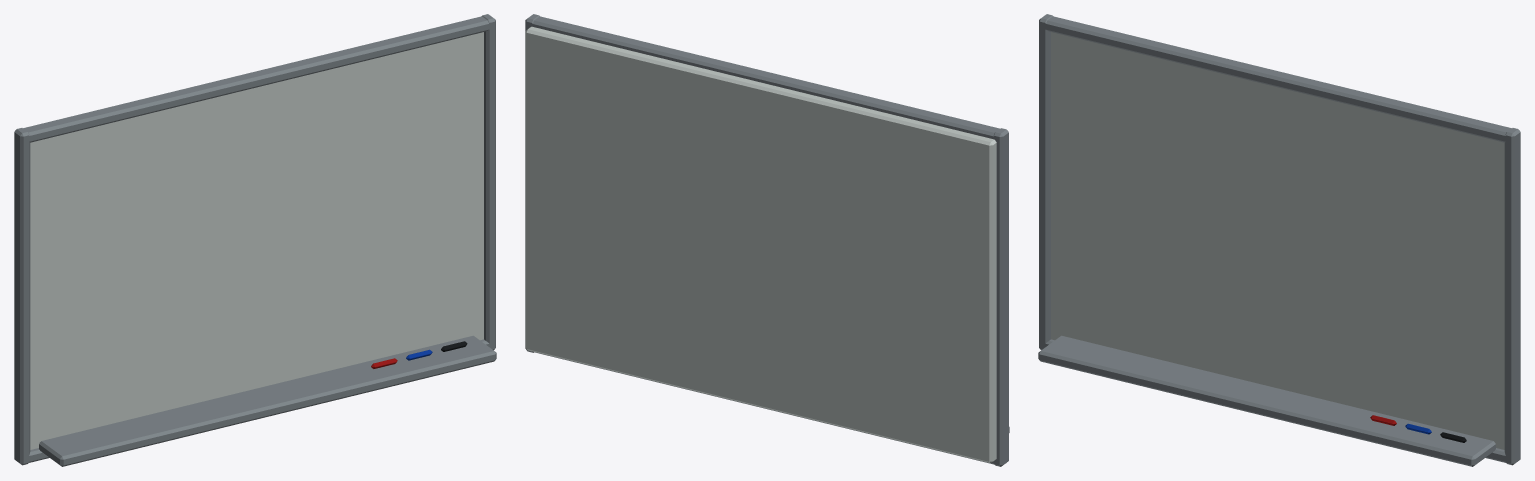
File: Whiteboard.fbx
The picture shows the model from 3 angles, left to right: view 1: azimuth 30°, elevation 25°; view 2: azimuth 150°, elevation 25°; view 3: azimuth 330°, elevation 25°; orthographic projection.
Visible parts, largest first — view 1: Whiteboard; view 2: Whiteboard; view 3: Whiteboard.
Boxes of the visible parts, box(x1,y1,x2,y2) form: Whiteboard: box(14, 14, 496, 466); Whiteboard: box(525, 14, 1009, 466); Whiteboard: box(1038, 14, 1520, 466).
Size of the model in its own units: 163 by 109 by 20.
1 material, 1 textured.
